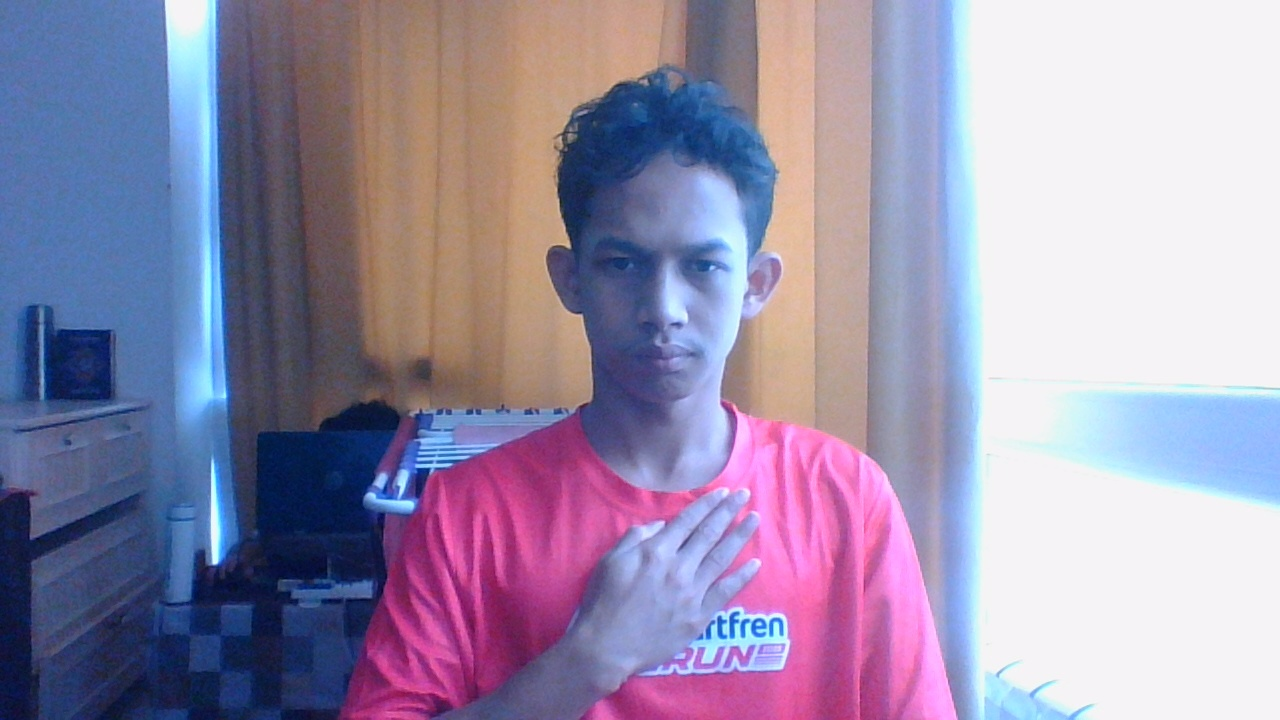please: (573, 485, 785, 683)
